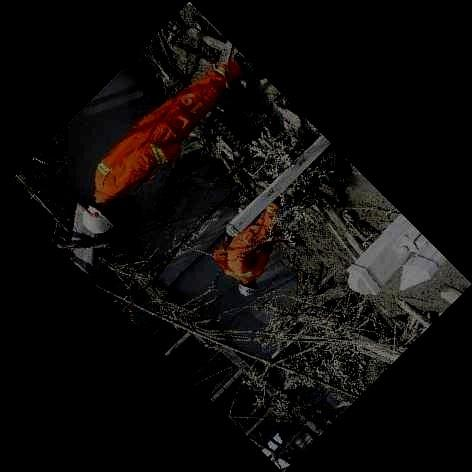helmet: (82, 201, 115, 234), (238, 279, 255, 297)
